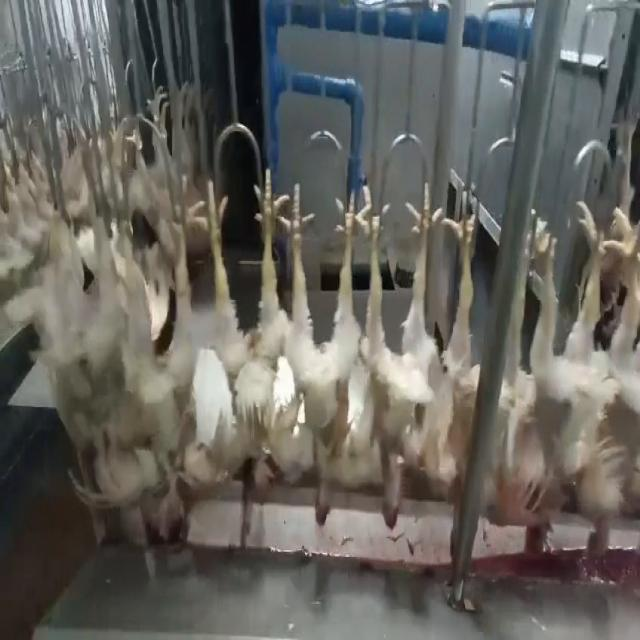chicken: (491, 201, 582, 562), (205, 169, 287, 506), (365, 172, 438, 534), (287, 179, 359, 525), (583, 161, 639, 562), (148, 174, 207, 547), (432, 186, 486, 488)
